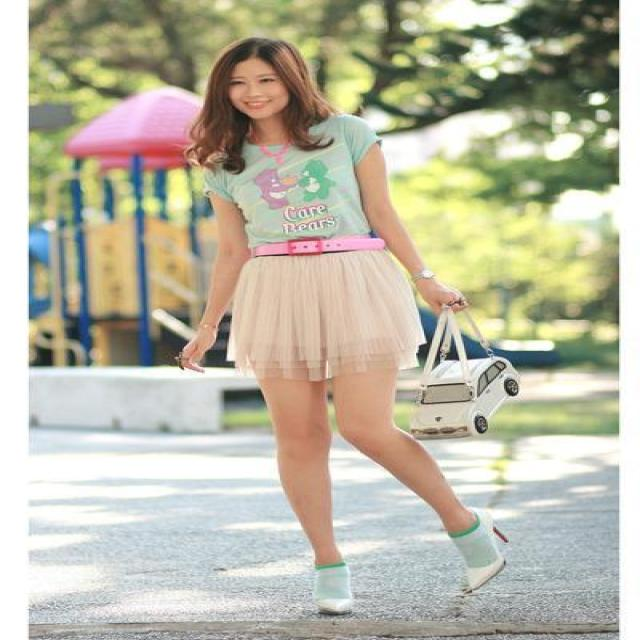shirt: (181, 115, 381, 253)
shoe: (310, 554, 498, 618)
skirt: (227, 250, 437, 385)
